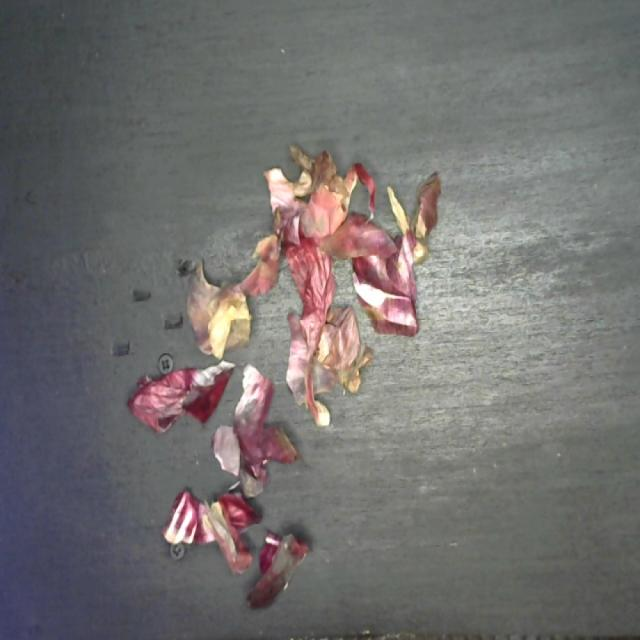biodegradable: (119, 134, 442, 615)
